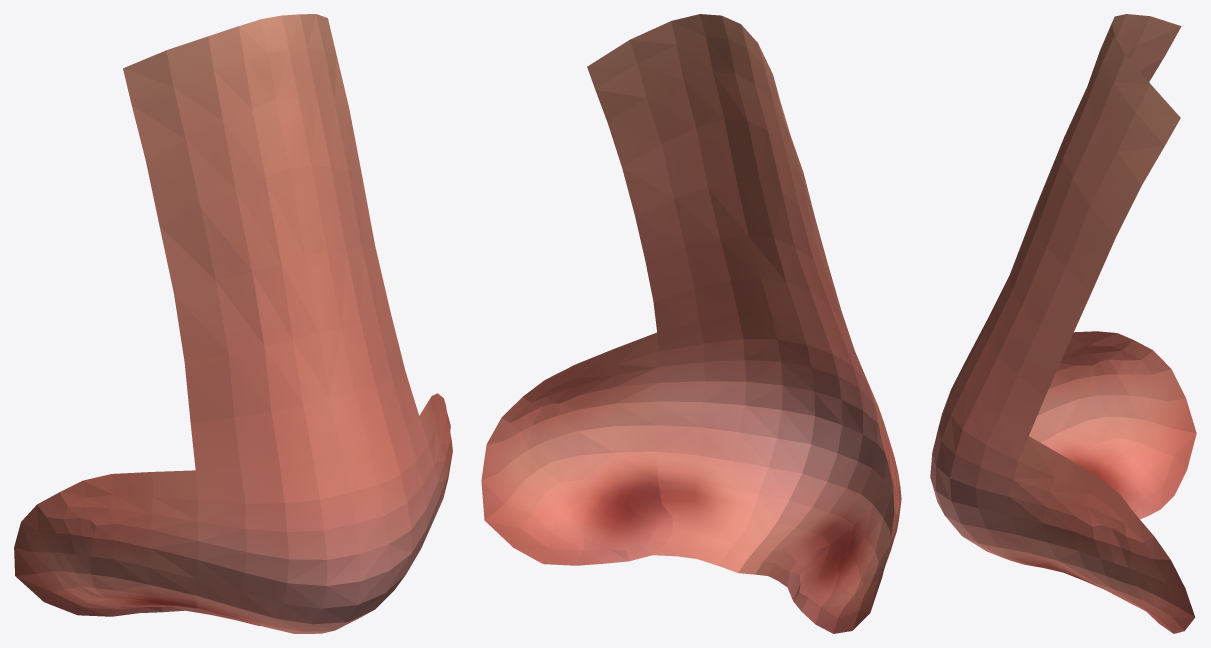
The model's file is euro-fem-nose-flat.obj.
3 renders of one model, left to right at view 1: azimuth 30°, elevation 25°; view 2: azimuth 150°, elevation 25°; view 3: azimuth 270°, elevation 25°, orthographic. The views are drawn at different scales.
Visible parts, largest first — view 1: euro-fem-nose-flat.001; view 2: euro-fem-nose-flat.001; view 3: euro-fem-nose-flat.001.
Boxes of the visible parts, x1,y1,x2,y2 form: euro-fem-nose-flat.001: (14, 14, 452, 633); euro-fem-nose-flat.001: (481, 14, 901, 633); euro-fem-nose-flat.001: (930, 14, 1196, 633).
Size of the model in its own units: 0.165 by 0.2222 by 0.0976.
1 material, 1 textured.
